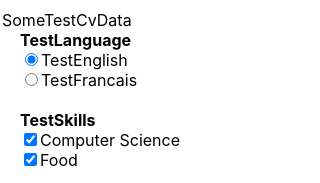
Scenario: when changing languages, menu language changes
Click the radio button labelled "TestFrancais": [32, 80] box [25,73,38,86]
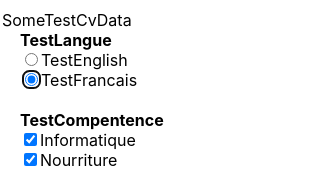
Now the text "TestCompentence" is shown, box [20,110,164,130]
